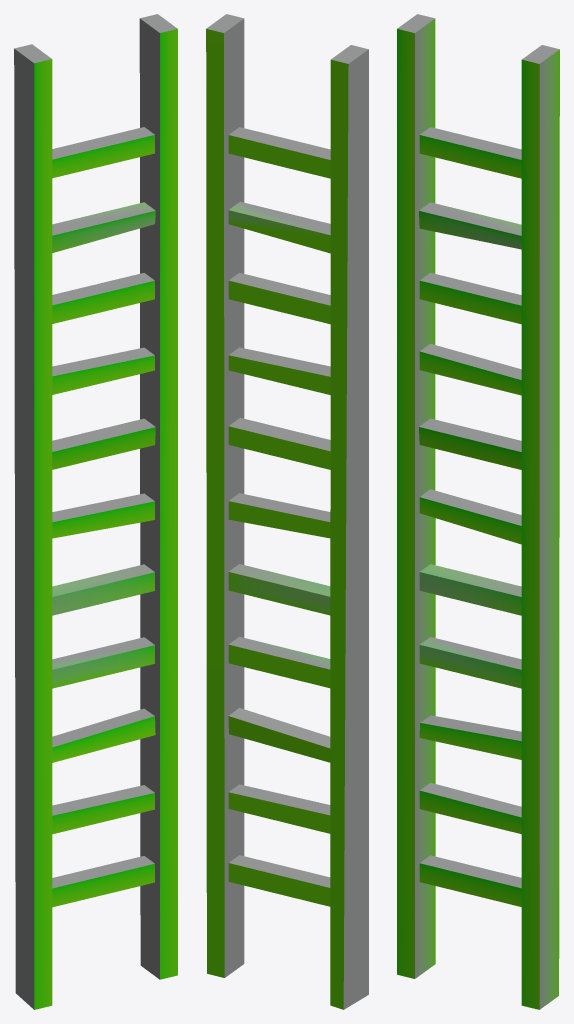
The picture shows the model from 3 angles, left to right: view 1: azimuth 30°, elevation 25°; view 2: azimuth 150°, elevation 25°; view 3: azimuth 330°, elevation 25°; orthographic projection.
Parts seen in each view (by area): view 1: G:\FFXIV-MapTools\exports\f1f1\bg\ffxiv\fst_f1\fld\f1f1\bgpa; view 2: G:\FFXIV-MapTools\exports\f1f1\bg\ffxiv\fst_f1\fld\f1f1\bgpa; view 3: G:\FFXIV-MapTools\exports\f1f1\bg\ffxiv\fst_f1\fld\f1f1\bgpa.
Boxes of the visible parts, bbox=[...] form: G:\FFXIV-MapTools\exports\f1f1\bg\ffxiv\fst_f1\fld\f1f1\bgpa: bbox=[14, 14, 177, 1009]; G:\FFXIV-MapTools\exports\f1f1\bg\ffxiv\fst_f1\fld\f1f1\bgpa: bbox=[206, 14, 368, 1009]; G:\FFXIV-MapTools\exports\f1f1\bg\ffxiv\fst_f1\fld\f1f1\bgpa: bbox=[397, 14, 559, 1009].
Size of the model in its own units: 0.801 by 5.06 by 0.2172.
